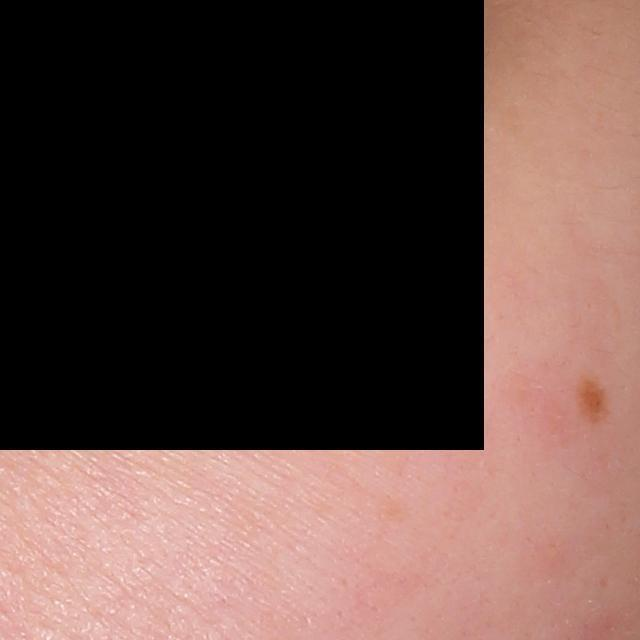melasma: (573, 371, 617, 432)
